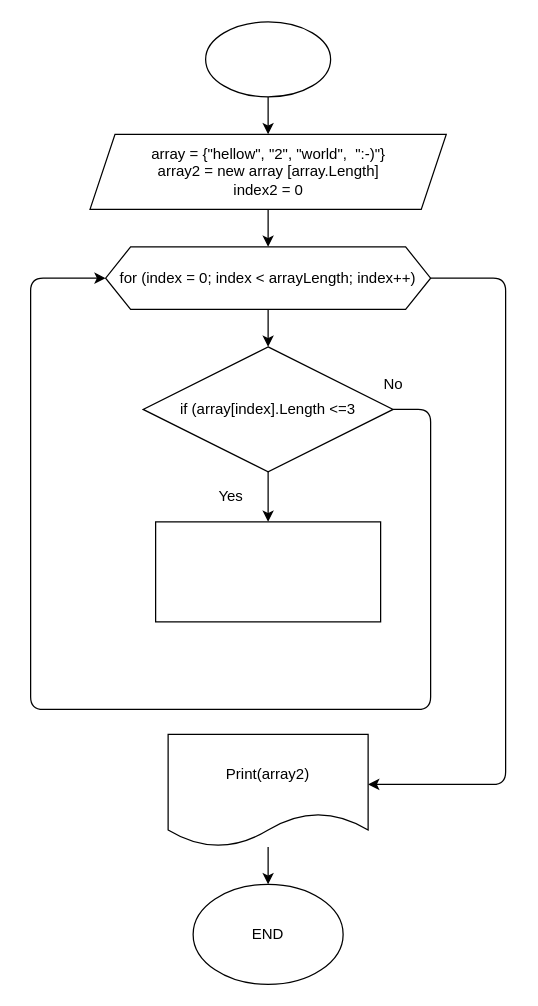
The diagram is 538 pixels wide and 1006 high, and some of its shapes have lost their labels. The centre of each missing label's shape, as x and y in pixels:
array2[index2] = array[index] index2 ++: (267,571)
Start: (267,59)
